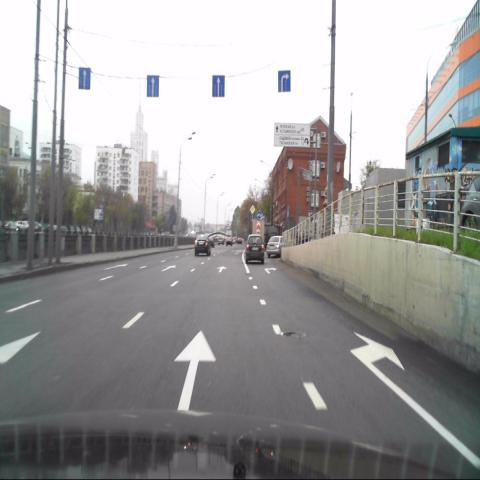5_15_2: (146, 74, 160, 97), (212, 74, 225, 97), (78, 67, 91, 89), (278, 72, 291, 93)
